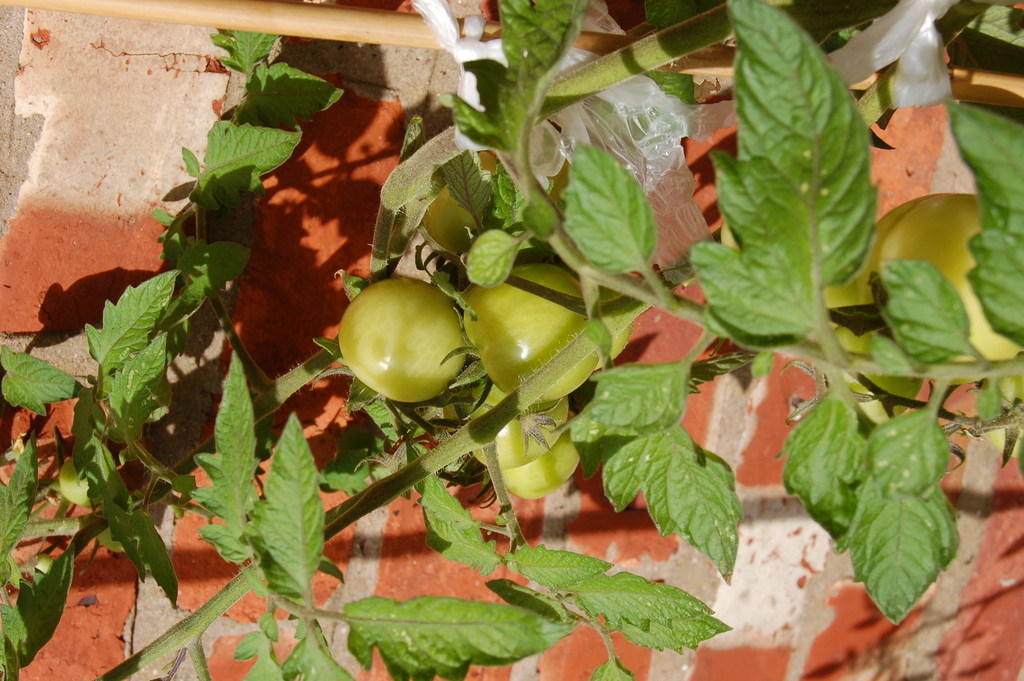Tomato: (822, 190, 1023, 381), (461, 260, 600, 415), (336, 272, 474, 397), (443, 375, 568, 470), (823, 366, 924, 427), (504, 433, 584, 501)
